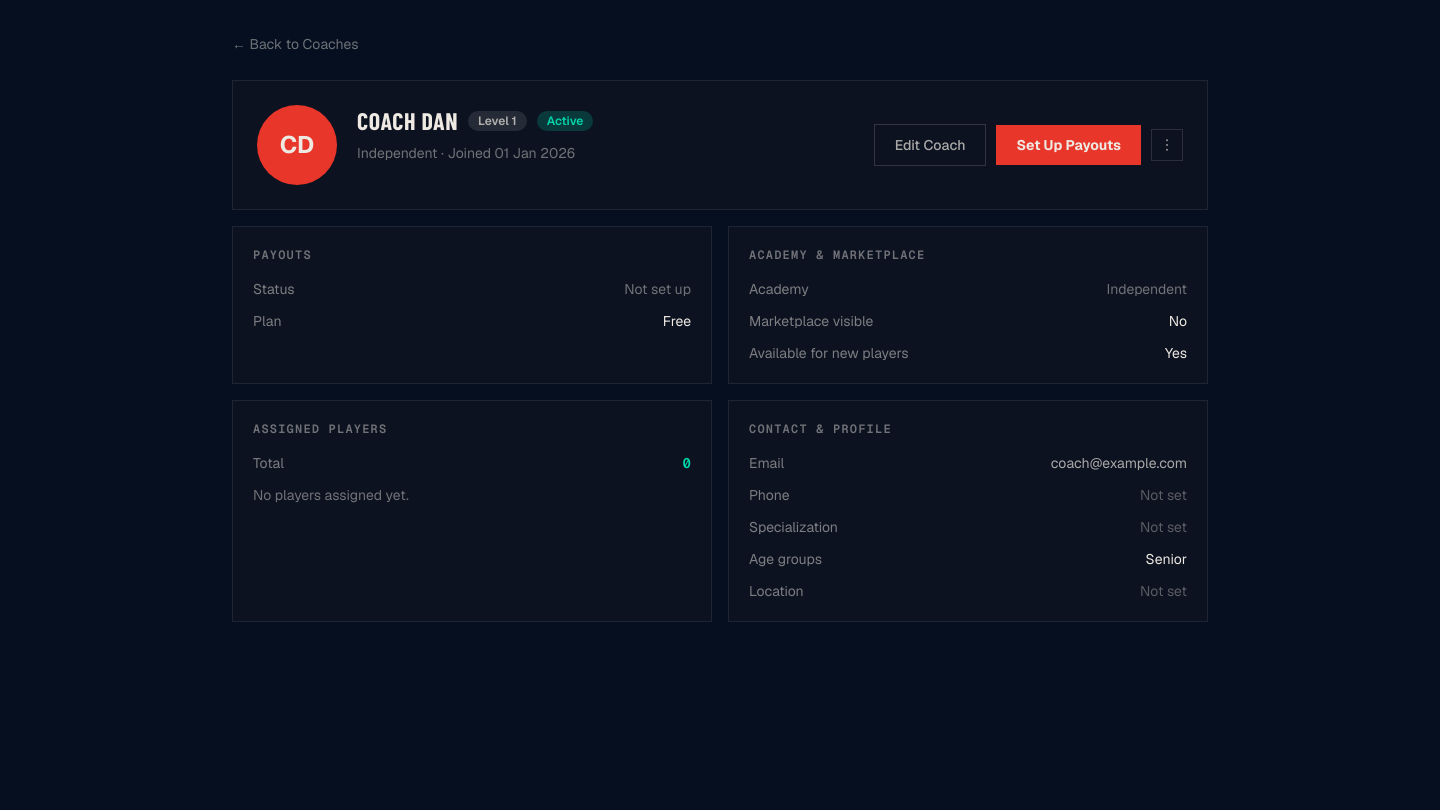
CoachProfileClient › deactivating from the profile page requires confirmation, then updates the status badge in place
expect the heading "Coach Dan" is shown: met, box [357,105,458,137]
Click the button named "More actions": coordinates (1167, 145) [1151,129,1183,161]
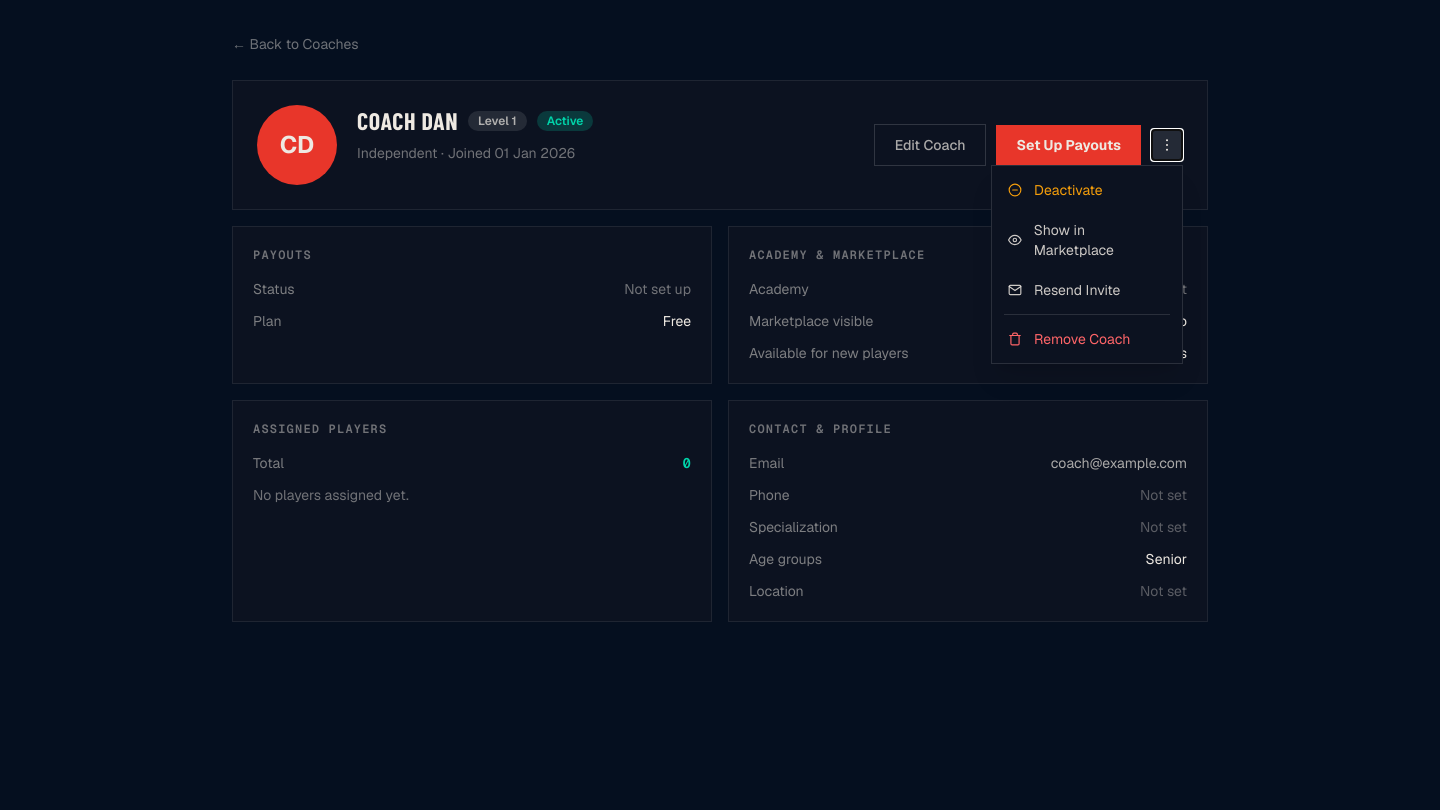
Click the button "Deactivate": coordinates (1087, 190) [992,170,1182,210]
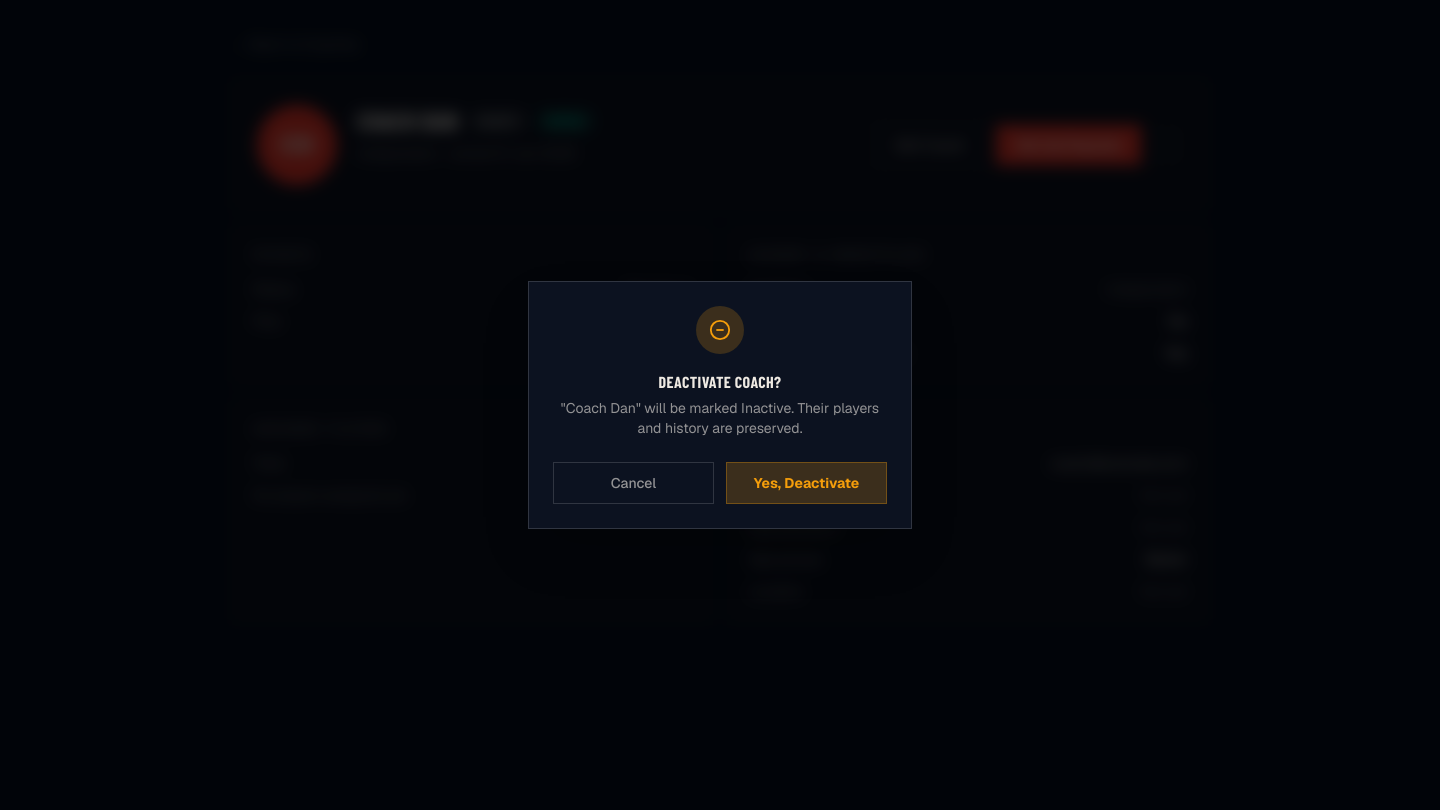
expect the heading "Deactivate Coach?" is shown: met, box [658,372,782,391]
Click the button "Yes, Deactivate": coordinates (806, 483) [726,462,887,504]
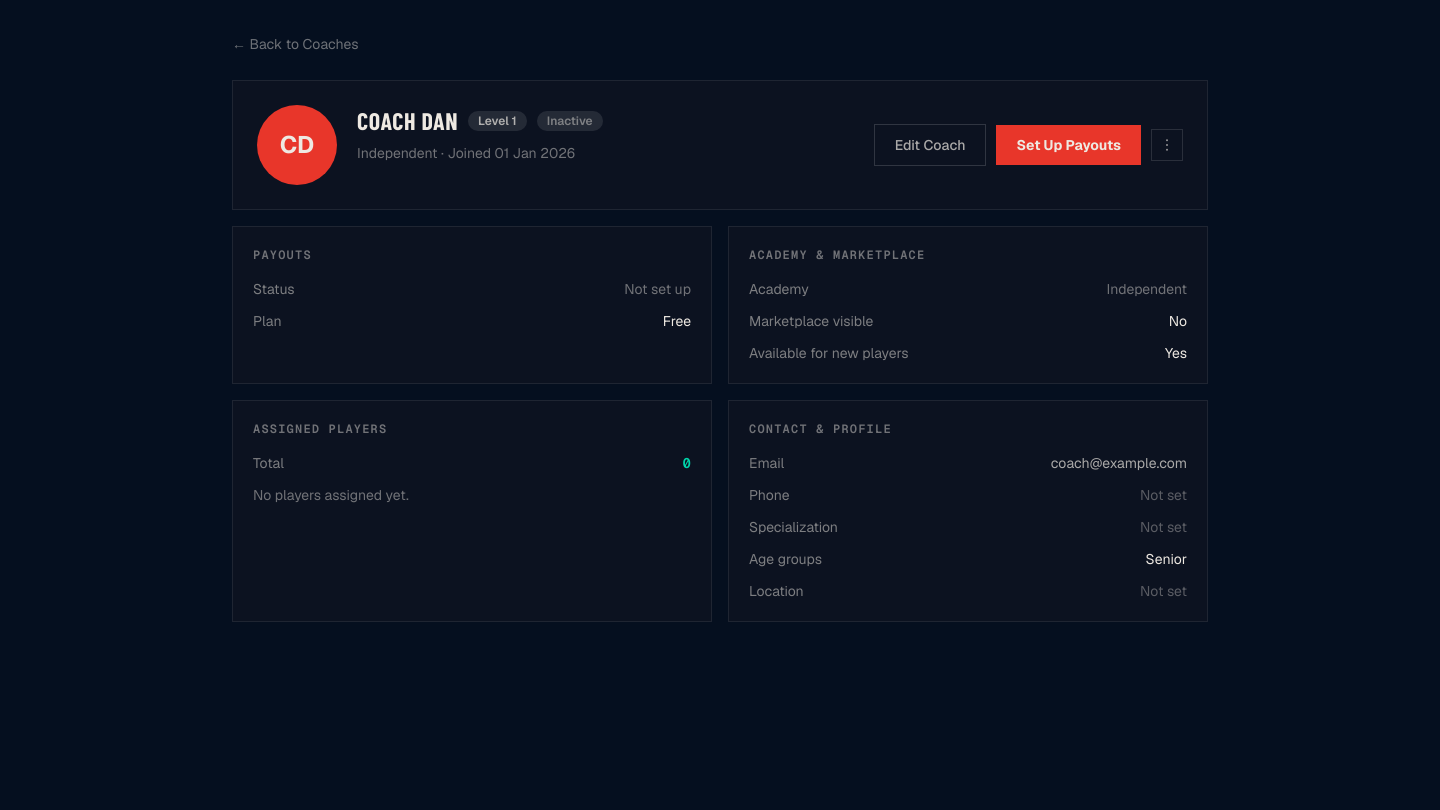
expect the text "Inactive" is shown: met, box [537,111,603,131]
